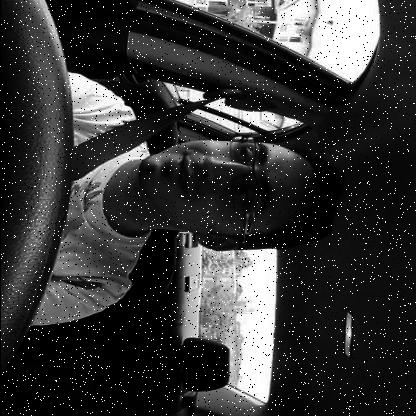seatbelt: (66, 80, 348, 256)
